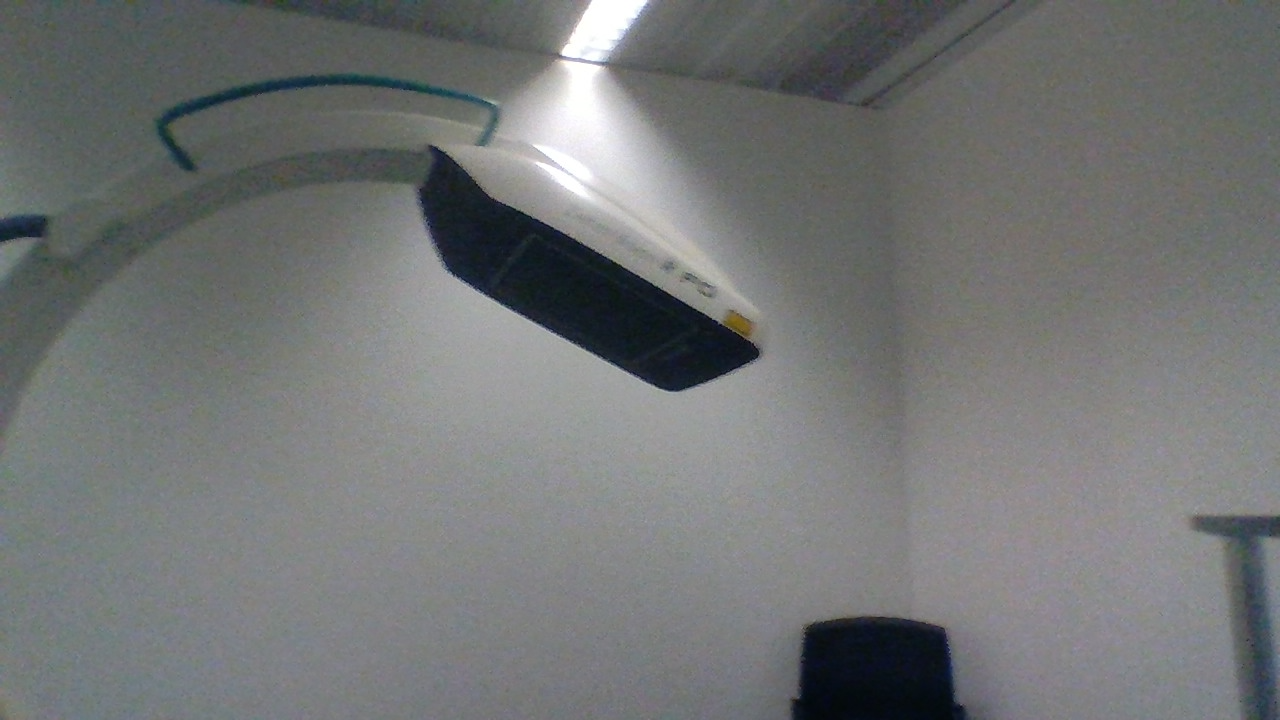carmUP: (420, 140, 766, 394)
